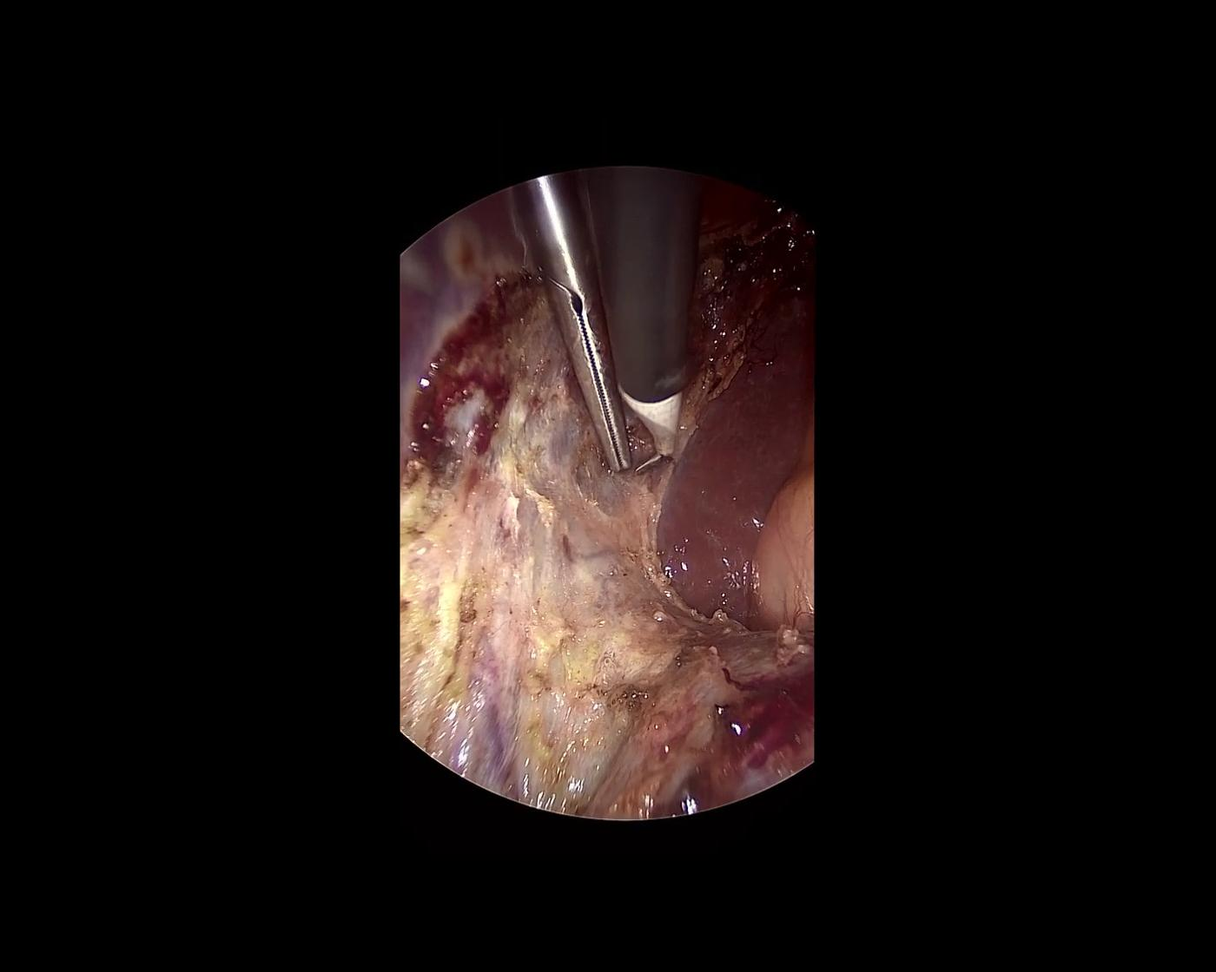Cautery: (557, 161, 701, 475)
Forceps: (518, 169, 634, 480)
Gallbladder: (520, 551, 816, 817)
Liver: (637, 222, 856, 628), (304, 155, 563, 480)
